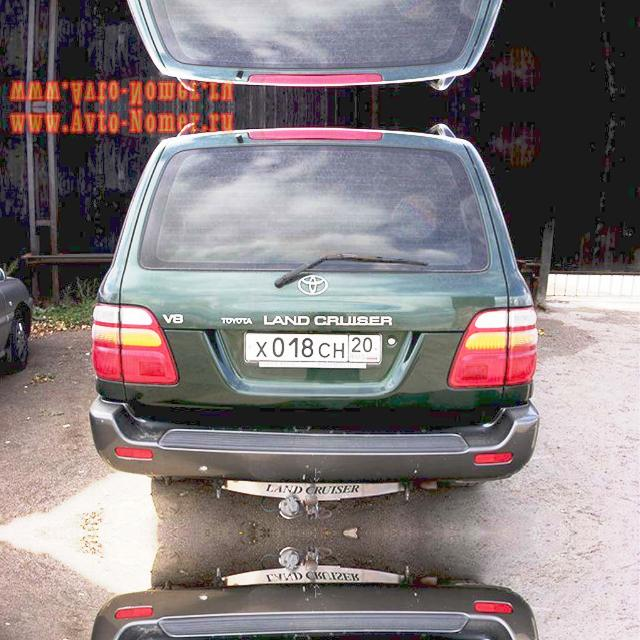citizen: (242, 328, 386, 370)
